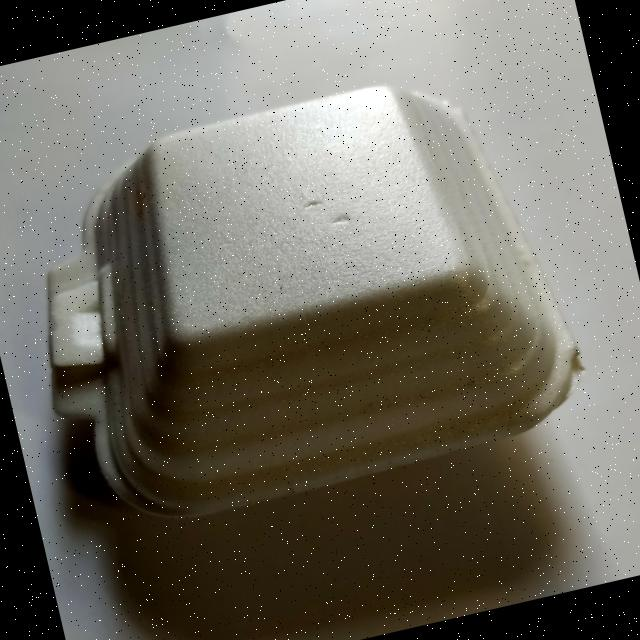styrofoam: (0, 48, 601, 550)
